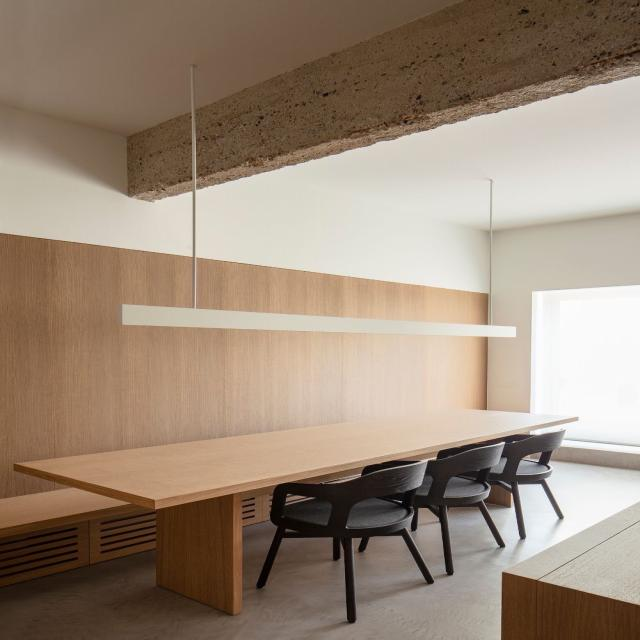table: (9, 401, 602, 613)
